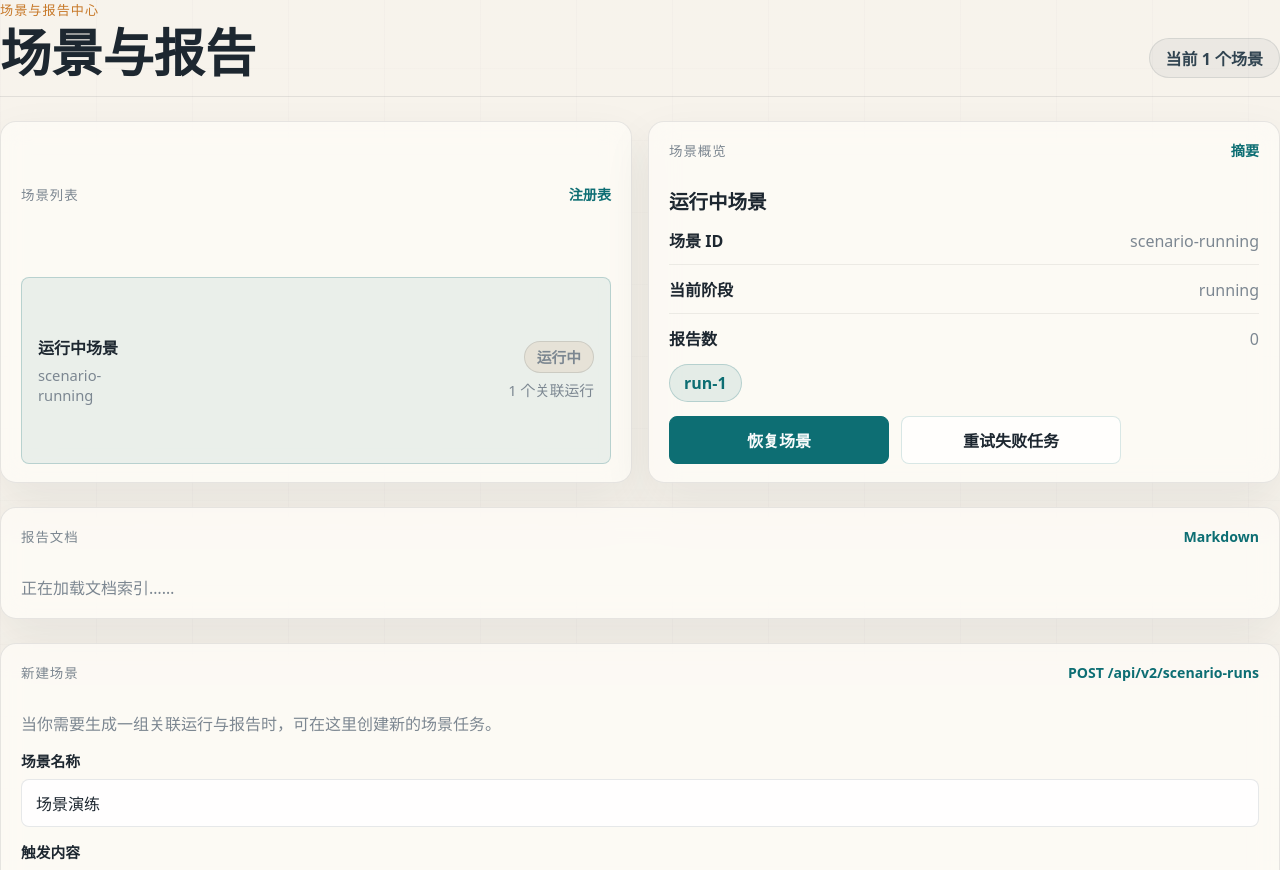
Test case: 恢复错误消息为空时显示 fallback 文案
Click the button "恢复场景".
click(779, 440)  # box [669, 416, 889, 464]
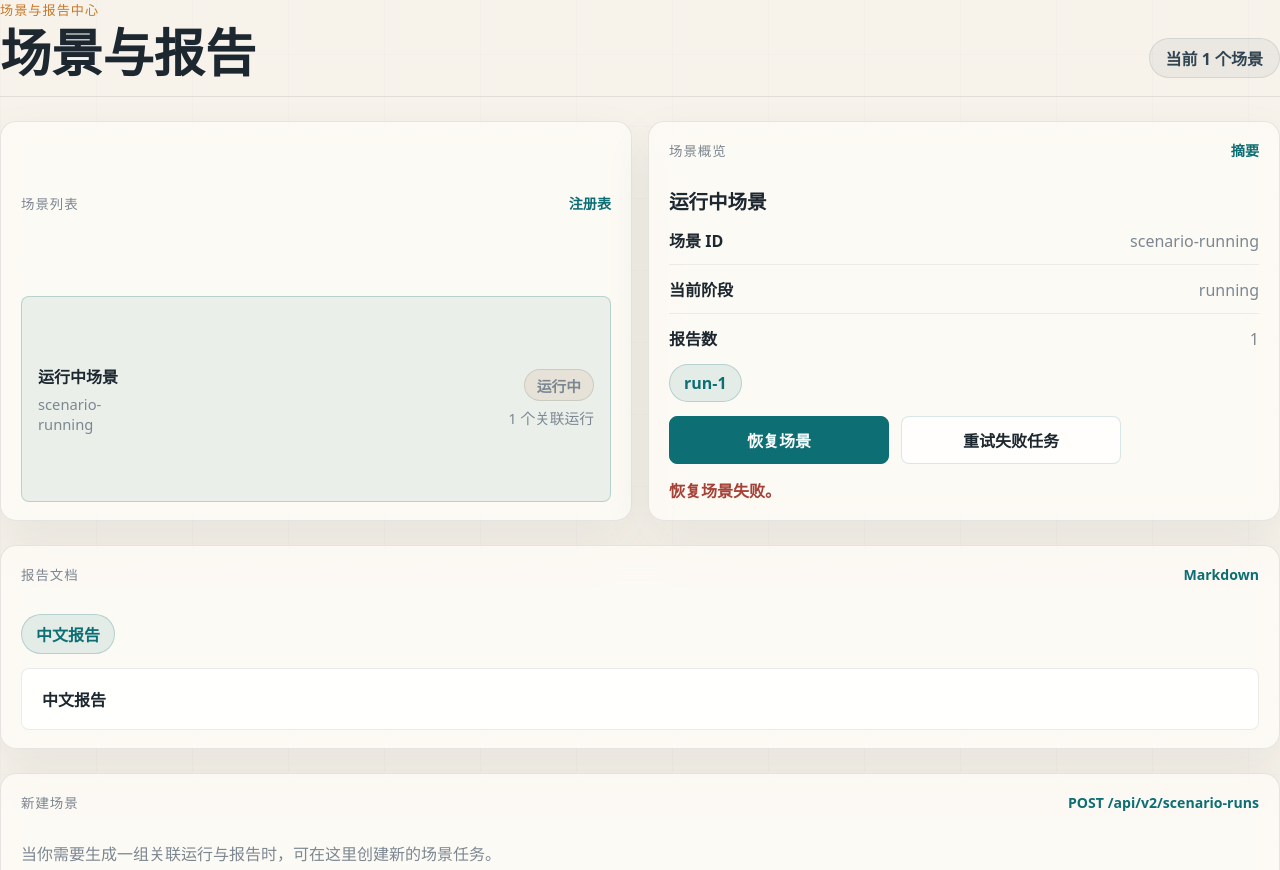
Expected: the text "恢复场景失败。" is shown, [669, 480, 781, 502]
